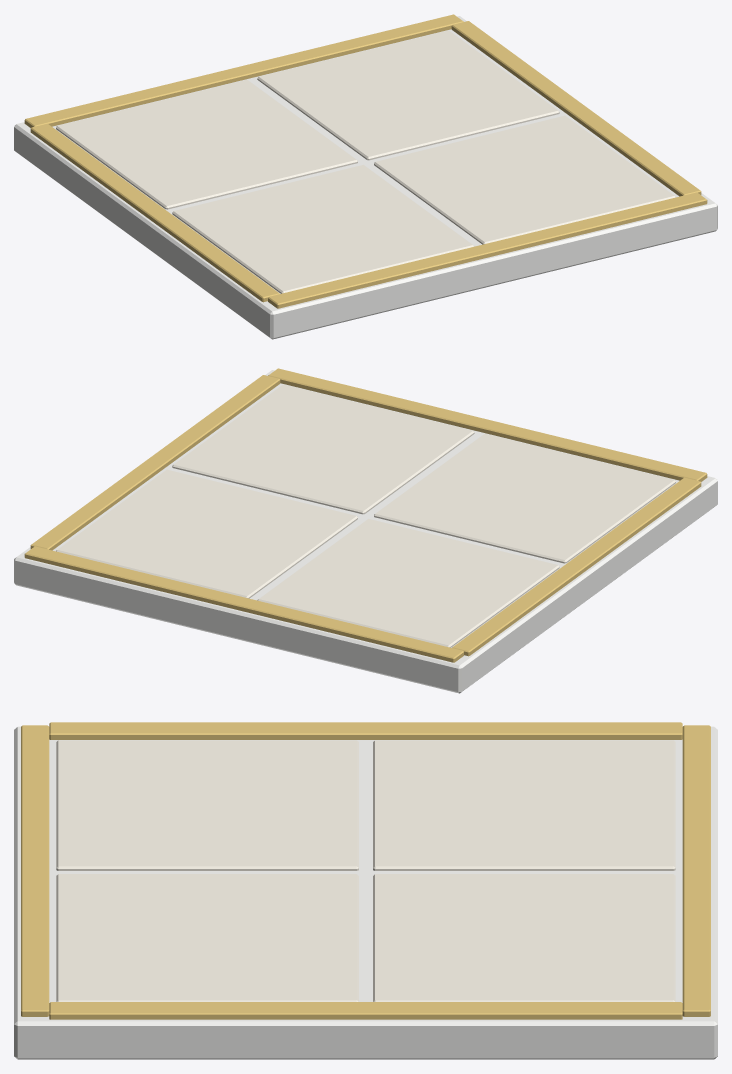
File: wedding-and-chapel-kit-dance-floor-panel-gold-8b09f32d__39405.glb
3 views of the same model, one above another, from view 1: azimuth 30°, elevation 25°; view 2: azimuth 150°, elevation 25°; view 3: azimuth 270°, elevation 25° (orthographic). The views are drawn at different scales.
Parts seen in each view (by area): view 1: dance-floor-panel-gold; view 2: dance-floor-panel-gold; view 3: dance-floor-panel-gold.
Boxes of the visible parts, left/top/right/bottom form: dance-floor-panel-gold: left=14, top=14, right=717, bottom=339; dance-floor-panel-gold: left=14, top=368, right=717, bottom=693; dance-floor-panel-gold: left=14, top=722, right=717, bottom=1059.
Bounding box in the file's own units: 1 × 0.07 × 1.
